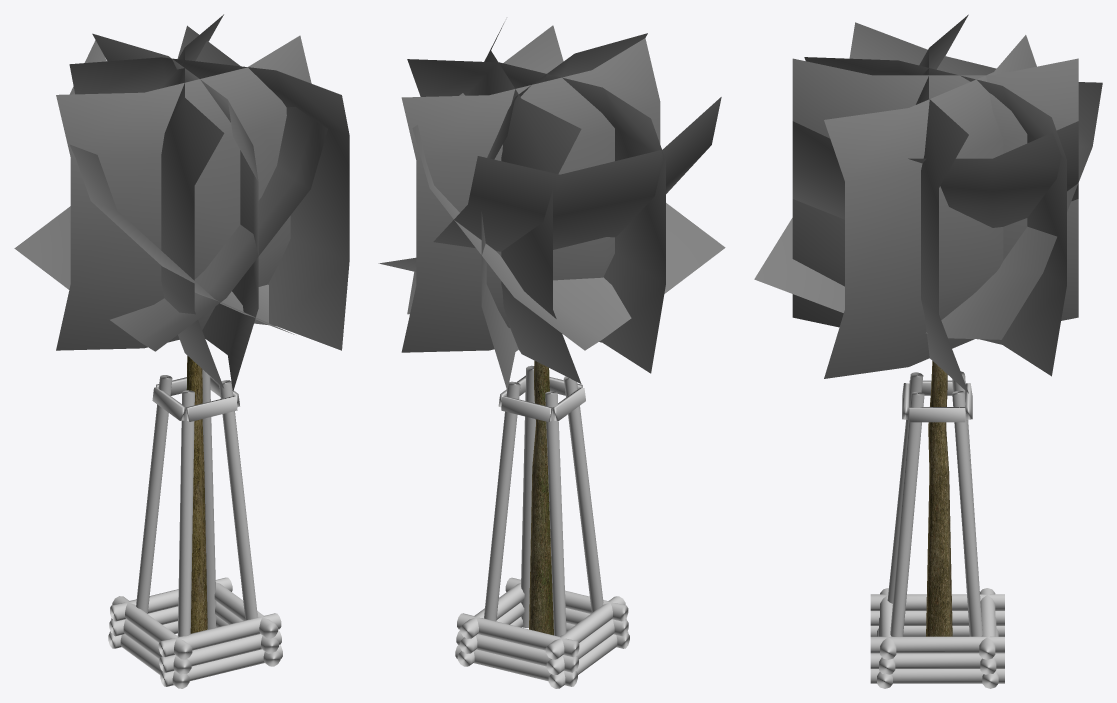
File: tree.fbx
The picture shows the model from 3 angles, left to right: view 1: azimuth 30°, elevation 25°; view 2: azimuth 150°, elevation 25°; view 3: azimuth 270°, elevation 25°; orthographic projection.
Visible parts, largest first — view 1: Mesh; view 2: Mesh; view 3: Mesh.
Part boxes in pixels (x1,y1,x2,y2): Mesh: (14,14,349,688); Mesh: (378,22,725,688); Mesh: (754,14,1102,688).
Size of the model in its own units: 222 by 452 by 244.
